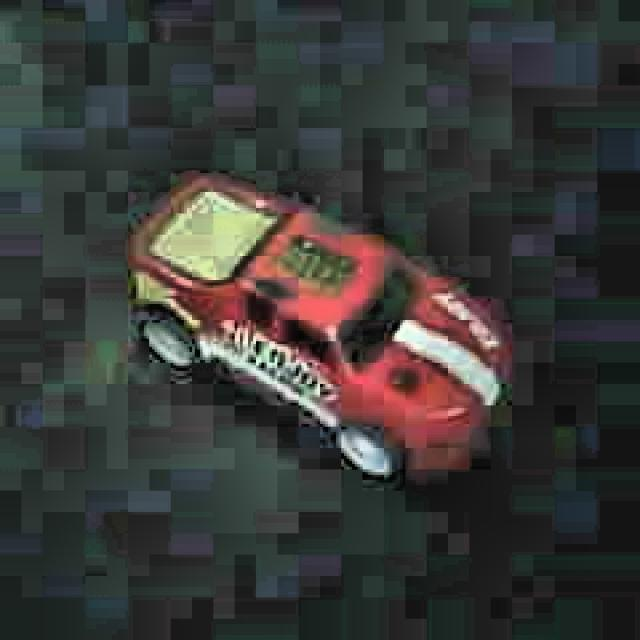car: (126, 164, 512, 491)
